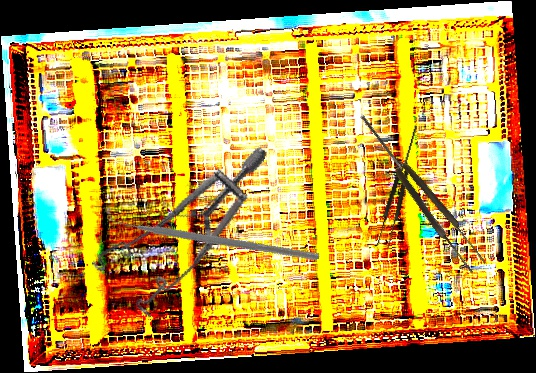Chopper: (101, 138, 322, 327)
Speculum: (81, 107, 268, 337)
Tissue Forceps: (353, 107, 488, 276), (375, 124, 424, 249)
